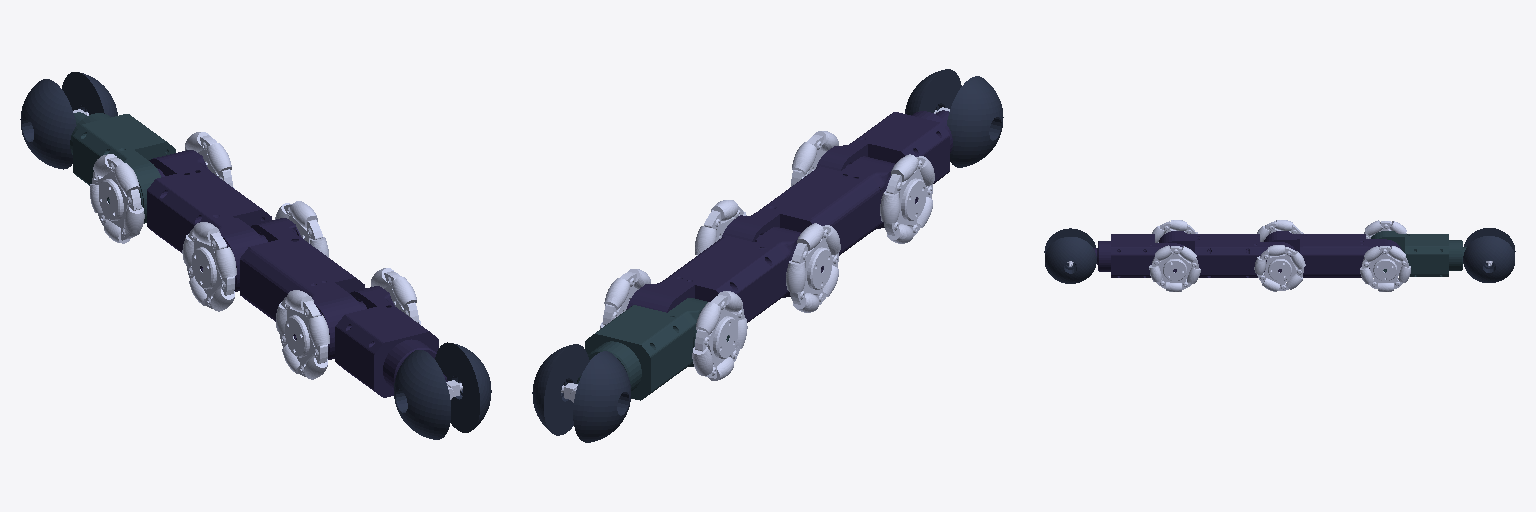
robot.urdf — pir-b-001:
<?xml version="1.0" ?>
<!-- =================================================================================== -->
<!-- |    This document was autogenerated by xacro from PIR-B-ASSY-001-integeration.xacro | -->
<!-- |    EDITING THIS FILE BY HAND IS NOT RECOMMENDED                                 | -->
<!-- =================================================================================== -->
<robot name="pir-b-001">
  <link name="base_footprint"/>
  <link name="base_link">
    <inertial>
      <origin rpy="0 0 0" xyz="0.00464580299161508 -0.00157654781508274 1.29496402264534E-08"/>
      <mass value="0.170619611327794"/>
      <inertia ixx="8.87834221142331E-05" ixy="7.79394477944035E-08" ixz="9.12723410794375E-12" iyy="3.69411152186283E-05" iyz="-1.02575311402571E-11" izz="7.54787982319766E-05"/>
    </inertial>
    <visual>
      <origin rpy="0 0 0" xyz="0 0 0"/>
      <geometry>
        <mesh filename="package://pir-b-001/meshes/base_link.STL"/>
      </geometry>
      <material name="">
        <color rgba="0.2156862745098 0.19607843137255 0.33333333333333 1"/>
      </material>
    </visual>
    <collision>
      <origin rpy="0 0 0" xyz="0 0 0"/>
      <geometry>
        <mesh filename="package://pir-b-001/meshes/base_link.STL"/>
      </geometry>
    </collision>
  </link>
  <joint name="base_joint" type="fixed">
    <parent link="base_footprint"/>
    <child link="base_link"/>
  </joint>
  <link name="right_Link">
    <inertial>
      <origin rpy="0 0 0" xyz="-0.00184881111328208 -4.23784689099552E-07 0.0428862642303592"/>
      <mass value="0.0937706135990428"/>
      <inertia ixx="3.3058401223831E-05" ixy="-8.41485245226076E-11" ixz="-1.68708890047153E-07" iyy="2.54497427915133E-05" iyz="1.89306498798761E-10" izz="1.98487722559132E-05"/>
    </inertial>
    <visual>
      <origin rpy="0 0 0" xyz="0 0 0"/>
      <geometry>
        <mesh filename="package://pir-b-001/meshes/right_Link.STL"/>
      </geometry>
      <material name="brown">
        <color rgba="0.2156862745098 0.29607843137255 0.33333333333333 1"/>
      </material>
    </visual>
    <collision>
      <origin rpy="0 0 0" xyz="0 0 0"/>
      <geometry>
        <mesh filename="package://pir-b-001/meshes/right_Link.STL"/>
      </geometry>
    </collision>
  </link>
  <joint name="right_Linkj" type="continuous">
    <origin rpy="1.57079632679489 0 -3.14159265358979" xyz="-0.0014878 0.0595 0"/>
    <parent link="base_link"/>
    <child link="right_Link"/>
    <axis xyz="1 0 0"/>
    <limit effort="30" lower="0" upper="0" velocity="30"/>
  </joint>
  <link name="right_wheel1">
    <inertial>
      <origin rpy="0 0 0" xyz="-0.000152394722576409 -1.38777878078145E-17 0.00826667615289123"/>
      <mass value="0.00397466978072404"/>
      <inertia ixx="3.60918483675977E-07" ixy="1.65569978578215E-24" ixz="-5.54295173329271E-24" iyy="5.29262126321023E-07" iyz="-2.39172772821026E-13" izz="2.18039563551073E-07"/>
    </inertial>
    <visual>
      <origin rpy="0 0 0" xyz="0 0 0"/>
      <geometry>
        <mesh filename="package://pir-b-001/meshes/right_wheel1.STL"/>
      </geometry>
      <material name="">
        <color rgba="0.792156862745098 0.819607843137255 0.933333333333333 1"/>
      </material>
    </visual>
    <collision>
      <origin rpy="0 0 0" xyz="0 0 0"/>
      <geometry>
        <mesh filename="package://pir-b-001/meshes/right_wheel1.STL"/>
      </geometry>
    </collision>
  </link>
  <joint name="right_wheel1j" type="continuous">
    <origin rpy="3.14159265358979 0 3.14159265358979" xyz="-0.00749999999999901 0 0.120529810536102"/>
    <parent link="right_Link"/>
    <child link="right_wheel1"/>
    <axis xyz="0 0 1"/>
    <!-- <limit
      lower="0"
      upper="0"
      effort="0"
      velocity="0" /> -->
  </joint>
  <link name="right_wheel">
    <inertial>
      <origin rpy="0 0 0" xyz="0 -9.80989718277203E-10 0.00057019000905606"/>
      <mass value="0.06316999034176"/>
      <inertia ixx="2.34601118841819E-05" ixy="6.34235569189726E-13" ixz="1.10459714329623E-15" iyy="1.31801476605567E-05" iyz="1.21434487375606E-10" izz="1.31800680409047E-05"/>
    </inertial>
    <visual>
      <origin rpy="0 0 0" xyz="0 9.80989718277203E-10 0.00057019000905606"/>
      <geometry>
        <mesh filename="package://pir-b-001/meshes/right_wheel.STL"/>
      </geometry>
      <material name="">
        <color rgba="0.2156862745098 0.25 0.333333333333333 1"/>
      </material>
    </visual>
    <collision>
      <origin rpy="0 0 0" xyz="0 9.80989718277203E-10 0.00057019000905606"/>
      <geometry>
        <mesh filename="package://pir-b-001/meshes/right_wheel.STL"/>
      </geometry>
    </collision>
  </link>
  <joint name="right_wheelj" type="continuous">
    <origin rpy="0 0 0" xyz="0 0 0"/>
    <parent link="right_wheel1"/>
    <child link="right_wheel"/>
    <axis xyz="1 0 0"/>
    <limit effort="0" lower="0" upper="0" velocity="0"/>
  </joint>
  <link name="omni1">
    <inertial>
      <origin rpy="0 0 0" xyz="-0.00563003320638717 -2.34501937295545E-08 3.54608361008424E-08"/>
      <mass value="0.0201689077901827"/>
      <inertia ixx="2.89466199636895E-06" ixy="-9.5524341130118E-18" ixz="7.27101391902106E-16" iyy="1.56064663818156E-06" iyz="-2.24081755790126E-16" izz="1.5606466410806E-06"/>
    </inertial>
    <visual>
      <origin rpy="0 0 0" xyz="0 0 0"/>
      <geometry>
        <mesh filename="package://pir-b-001/meshes/omni1.STL"/>
      </geometry>
      <material name="">
        <color rgba="0.792156862745098 0.819607843137255 0.933333333333333 1"/>
      </material>
    </visual>
    <collision>
      <origin rpy="0 0 0" xyz="0 0 0"/>
      <geometry>
        <mesh filename="package://pir-b-001/meshes/omni1.STL"/>
      </geometry>
    </collision>
  </link>
  <joint name="omni1j" type="continuous">
    <origin rpy="3.14159265358979 0 3.14159265358979" xyz="-0.0489939 0 0"/>
    <parent link="right_Link"/>
    <child link="omni1"/>
    <axis xyz="1 0 0"/>
    <limit effort="0" velocity="100"/>
  </joint>
  <link name="omni11">
    <inertial>
      <origin rpy="0 0 0" xyz="0.00594999947873641 5.39957731304774E-11 -1.80231940483111E-11"/>
      <mass value="0.0201140567593902"/>
      <inertia ixx="2.89396036741548E-06" ixy="8.33888837112752E-17" ixz="7.38017089766643E-16" iyy="1.56026500386643E-06" iyz="7.65565755138745E-16" izz="1.56026500695539E-06"/>
    </inertial>
    <visual>
      <origin rpy="0 0 0" xyz="0 0 0"/>
      <geometry>
        <mesh filename="package://pir-b-001/meshes/omni11.STL"/>
      </geometry>
      <material name="">
        <color rgba="0.792156862745098 0.819607843137255 0.933333333333333 1"/>
      </material>
    </visual>
    <collision>
      <origin rpy="0 0 0" xyz="0 0 0"/>
      <geometry>
        <mesh filename="package://pir-b-001/meshes/omni11.STL"/>
      </geometry>
    </collision>
  </link>
  <joint name="omni11j" type="continuous">
    <origin rpy="3.14159265358979 0 3.14159265358979" xyz="0.032500000000001 0 0"/>
    <parent link="right_Link"/>
    <child link="omni11"/>
    <axis xyz="1 0 0"/>
    <limit effort="0" velocity="100"/>
  </joint>
  <link name="left_Link">
    <inertial>
      <origin rpy="0 0 0" xyz="-0.00158846965158471 1.46053958545445E-08 0.0622691284414876"/>
      <mass value="0.167006805501782"/>
      <inertia ixx="8.76796763617996E-05" ixy="-1.08530403468932E-11" ixz="6.66846868785724E-08" iyy="7.49199848156552E-05" iyz="-1.21830500956036E-11" izz="3.62401163602652E-05"/>
    </inertial>
    <visual>
      <origin rpy="0 0 0" xyz="0 0 0"/>
      <geometry>
        <mesh filename="package://pir-b-001/meshes/left_Link.STL"/>
      </geometry>
      <material name="">
        <color rgba="0.2156862745098 0.19607843137255 0.33333333333333 1"/>
      </material>
    </visual>
    <collision>
      <origin rpy="0 0 0" xyz="0 0 0"/>
      <geometry>
        <mesh filename="package://pir-b-001/meshes/left_Link.STL"/>
      </geometry>
    </collision>
  </link>
  <joint name="left_Linkj" type="continuous">
    <origin rpy="1.5707963267949 0 0" xyz="0.0109878 -0.0625 0"/>
    <parent link="base_link"/>
    <child link="left_Link"/>
    <axis xyz="1 0 0"/>
    <limit effort="30" lower="0" upper="0" velocity="30"/>
  </joint>
  <link name="link3">
    <inertial>
      <origin rpy="0 0 0" xyz="0.00184881111328213 4.2378468910996E-07 0.0428862642303593"/>
      <mass value="0.0937706135990428"/>
      <inertia ixx="3.3058401223831E-05" ixy="-8.41485245171142E-11" ixz="1.68708890047147E-07" iyy="2.54497427915133E-05" iyz="-1.89306498798599E-10" izz="1.98487722559132E-05"/>
    </inertial>
    <visual>
      <origin rpy="0 0 0" xyz="0 0 0"/>
      <geometry>
        <mesh filename="package://pir-b-001/meshes/link3.STL"/>
      </geometry>
      <material name="">
        <color rgba="0.2156862745098 0.19607843137255 0.33333333333333 1"/>
      </material>
    </visual>
    <collision>
      <origin rpy="0 0 0" xyz="0 0 0"/>
      <geometry>
        <mesh filename="package://pir-b-001/meshes/link3.STL"/>
      </geometry>
    </collision>
  </link>
  <joint name="link3j" type="continuous">
    <origin rpy="0 0 3.14159265358979" xyz="0.0044878 0 0.122"/>
    <parent link="left_Link"/>
    <child link="link3"/>
    <axis xyz="-1 0 0"/>
    <limit effort="30" lower="0" upper="0" velocity="30"/>
  </joint>
  <link name="left_wheel1">
    <inertial>
      <origin rpy="0 0 0" xyz="-0.000152394722576388 -1.73472347597681E-17 -0.00883686561678922"/>
      <mass value="0.00397466978072403"/>
      <inertia ixx="3.60918483675978E-07" ixy="1.40065332748047E-24" ixz="5.46219029424907E-24" iyy="5.29262126321023E-07" iyz="-2.39172773129062E-13" izz="2.18039563551071E-07"/>
    </inertial>
    <visual>
      <origin rpy="0 0 0" xyz="0 0 0"/>
      <geometry>
        <mesh filename="package://pir-b-001/meshes/left_wheel1.STL"/>
      </geometry>
      <material name="">
        <color rgba="0.792156862745098 0.819607843137255 0.933333333333333 1"/>
      </material>
    </visual>
    <collision>
      <origin rpy="0 0 0" xyz="0 0 0"/>
      <geometry>
        <mesh filename="package://pir-b-001/meshes/left_wheel1.STL"/>
      </geometry>
    </collision>
  </link>
  <joint name="left_wheel1j" type="continuous">
    <origin rpy="0 0 3.14159265358979" xyz="0.0075000000000011 0 0.1211"/>
    <parent link="link3"/>
    <child link="left_wheel1"/>
    <axis xyz="0 0 -1"/>
    <!-- <limit
      lower="0"
      upper="0"
      effort="0"
      velocity="0" /> -->
  </joint>
  <link name="left_wheel">
    <inertial>
      <origin rpy="0 0 0" xyz="0 9.80989711338309E-10 5.4515819636336E-10"/>
      <mass value="0.0631699903417599"/>
      <inertia ixx="2.34601118841818E-05" ixy="-6.34235568100555E-13" ixz="-1.10459970680797E-15" iyy="1.31801476605566E-05" iyz="1.2143448738075E-10" izz="1.31800680409047E-05"/>
    </inertial>
    <visual>
      <origin rpy="0 0 0" xyz="0 0 0"/>
      <geometry>
        <mesh filename="package://pir-b-001/meshes/left_wheel.STL"/>
      </geometry>
      <material name="">
        <color rgba="0.2156862745098 0.25 0.333333333333333 1"/>
      </material>
    </visual>
    <collision>
      <origin rpy="0 0 0" xyz="0 0 0"/>
      <geometry>
        <mesh filename="package://pir-b-001/meshes/left_wheel.STL"/>
      </geometry>
    </collision>
  </link>
  <joint name="left_wheelj" type="continuous">
    <origin rpy="0 0 0" xyz="0 0 0"/>
    <parent link="left_wheel1"/>
    <child link="left_wheel"/>
    <axis xyz="-1 0 0"/>
    <limit effort="0" lower="0" upper="0" velocity="0"/>
  </joint>
  <link name="omni3">
    <inertial>
      <origin rpy="0 0 0" xyz="-0.00906169875747201 9.99316115968263E-11 3.76969983006958E-12"/>
      <mass value="0.0220741125393333"/>
      <inertia ixx="2.90247191554529E-06" ixy="5.7152064424899E-16" ixz="2.06680343176959E-16" iyy="2.42265115370176E-06" iyz="3.86902451094229E-15" izz="2.42265115187895E-06"/>
    </inertial>
    <visual>
      <origin rpy="0 0 0" xyz="0 0 0"/>
      <geometry>
        <mesh filename="package://pir-b-001/meshes/omni3.STL"/>
      </geometry>
      <material name="">
        <color rgba="0.792156862745098 0.819607843137255 0.933333333333333 1"/>
      </material>
    </visual>
    <collision>
      <origin rpy="0 0 0" xyz="0 0 0"/>
      <geometry>
        <mesh filename="package://pir-b-001/meshes/omni3.STL"/>
      </geometry>
    </collision>
  </link>
  <joint name="omni3j" type="continuous">
    <origin rpy="0 0 3.14159265358979" xyz="-0.0325 0 0"/>
    <parent link="link3"/>
    <child link="omni3"/>
    <axis xyz="1 0 0"/>
    <limit effort="0" velocity="0"/>
  </joint>
  <link name="omni33">
    <inertial>
      <origin rpy="0 0 0" xyz="0.00594999949319272 -1.73031554362435E-12 2.26730509367279E-11"/>
      <mass value="0.0201140568208348"/>
      <inertia ixx="2.89396036823254E-06" ixy="2.0290847722318E-17" ixz="-2.04665204356956E-16" iyy="1.56026500633012E-06" iyz="7.85122891413274E-16" izz="1.56026500750324E-06"/>
    </inertial>
    <visual>
      <origin rpy="0 0 0" xyz="0 0 0"/>
      <geometry>
        <mesh filename="package://pir-b-001/meshes/omni33.STL"/>
      </geometry>
      <material name="">
        <color rgba="0.792156862745098 0.819607843137255 0.933333333333333 1"/>
      </material>
    </visual>
    <collision>
      <origin rpy="0 0 0" xyz="0 0 0"/>
      <geometry>
        <mesh filename="package://pir-b-001/meshes/omni33.STL"/>
      </geometry>
    </collision>
  </link>
  <joint name="omni33j" type="continuous">
    <origin rpy="0 0 3.14159265358979" xyz="0.049487800000001 0 0"/>
    <parent link="link3"/>
    <child link="omni33"/>
    <axis xyz="1 0 0"/>
    <limit effort="0" velocity="0"/>
  </joint>
  <link name="omni22">
    <inertial>
      <origin rpy="0 0 0" xyz="0.00594999951624568 -5.9256037576727E-12 3.98460431316749E-11"/>
      <mass value="0.0201140568473286"/>
      <inertia ixx="2.89396036649702E-06" ixy="5.90539573515621E-16" ixz="-5.22899163592507E-16" iyy="1.56026500335274E-06" iyz="3.29436237722969E-15" izz="1.56026500968033E-06"/>
    </inertial>
    <visual>
      <origin rpy="0 0 0" xyz="0 0 0"/>
      <geometry>
        <mesh filename="package://pir-b-001/meshes/omni22.STL"/>
      </geometry>
      <material name="">
        <color rgba="0.792156862745098 0.819607843137255 0.933333333333333 1"/>
      </material>
    </visual>
    <collision>
      <origin rpy="0 0 0" xyz="0 0 0"/>
      <geometry>
        <mesh filename="package://pir-b-001/meshes/omni22.STL"/>
      </geometry>
    </collision>
  </link>
  <joint name="omni22j" type="continuous">
    <origin rpy="0 0 0" xyz="-0.0449878 0 0"/>
    <parent link="left_Link"/>
    <child link="omni22"/>
    <axis xyz="1 0 0"/>
    <limit effort="0" velocity="0"/>
  </joint>
  <link name="omni2">
    <inertial>
      <origin rpy="0 0 0" xyz="-0.00906169873200706 -2.22358936818878E-12 -1.69876057665164E-11"/>
      <mass value="0.0220741125868307"/>
      <inertia ixx="2.90247192013343E-06" ixy="8.096473822911E-17" ixz="-1.49131826695456E-16" iyy="2.42265115585034E-06" iyz="-2.80379249301921E-16" izz="2.42265115603564E-06"/>
    </inertial>
    <visual>
      <origin rpy="0 0 0" xyz="0 0 0"/>
      <geometry>
        <mesh filename="package://pir-b-001/meshes/omni2.STL"/>
      </geometry>
      <material name="">
        <color rgba="0.792156862745098 0.819607843137255 0.933333333333333 1"/>
      </material>
    </visual>
    <collision>
      <origin rpy="0 0 0" xyz="0 0 0"/>
      <geometry>
        <mesh filename="package://pir-b-001/meshes/omni2.STL"/>
      </geometry>
    </collision>
  </link>
  <joint name="omni2j" type="continuous">
    <origin rpy="0 0 0" xyz="0.037 0 0"/>
    <parent link="left_Link"/>
    <child link="omni2"/>
    <axis xyz="1 0 0"/>
    <limit effort="0" velocity="0"/>
  </joint>
  <!-- joints transmissions -->
  <transmission name="right_Linkj_trans">
    <type>transmission_interface/SimpleTransmission</type>
    <joint name="right_Linkj">
      <hardwareInterface>hardware_interface/PositionJointInterface</hardwareInterface>
    </joint>
    <actuator name="right_Linkm">
      <mechanicalReduction>1</mechanicalReduction>
    </actuator>
  </transmission>
  <transmission name="left_Linkj_trans">
    <type>transmission_interface/SimpleTransmission</type>
    <joint name="left_Linkj">
      <hardwareInterface>hardware_interface/PositionJointInterface</hardwareInterface>
    </joint>
    <actuator name="left_Linkm">
      <mechanicalReduction>1</mechanicalReduction>
    </actuator>
  </transmission>
  <transmission name="link3j_trans">
    <type>transmission_interface/SimpleTransmission</type>
    <joint name="link3j">
      <hardwareInterface>hardware_interface/PositionJointInterface</hardwareInterface>
    </joint>
    <actuator name="link3m">
      <mechanicalReduction>1</mechanicalReduction>
    </actuator>
  </transmission>
  <transmission name="omni1j_trans">
    <type>transmission_interface/SimpleTransmission</type>
    <joint name="omni1j">
      <hardwareInterface>hardware_interface/EffortJointInterface</hardwareInterface>
    </joint>
    <actuator name="omni1m">
      <mechanicalReduction>1.0</mechanicalReduction>
    </actuator>
  </transmission>
  <!-- <transmission name="omni11j_trans">
  <type>transmission_interface/SimpleTransmission</type>
  <joint name="omni11j">
    <hardwareInterface>hardware_interface/VelocityJointInterface</hardwareInterface>
  </joint>
  <actuator name="omni11m">
    <mechanicalReduction>1.0</mechanicalReduction>
  </actuator>
</transmission> -->
  <gazebo reference="omni1">
    <mu1 value="200.0"/>
    <mu2 value="100.0"/>
    <kp value="100.0"/>
    <kd value="1.0"/>
    <material>Gazebo/Black</material>
  </gazebo>
  <!-- <transmission name="right_wheel1j_trans">
  <type>transmission_interface/SimpleTransmission</type>
  <joint name="right_wheel1j">
    <hardwareInterface>hardware_interface/VelocityJointInterface</hardwareInterface>
  </joint>
  <actuator name="right_wheel1m">
    <mechanicalReduction>1</mechanicalReduction>
  </actuator>
</transmission> -->
  <gazebo>
    <plugin filename="libgazebo_ros_control.so" name="gazebo_ros_control">
      <robotNamespace>/pir_b_001</robotNamespace>
      <controlPeriod>0.001</controlPeriod>
      <robotSimType>gazebo_ros_control/DefaultRobotHWSim</robotSimType>
    </plugin>
  </gazebo>
  <!-- Camera Sensor -->
  <!-- <gazebo reference="right_wheel1">
   <sensor type="camera" name="camera">
     <always_on>true</always_on>
     <update_rate>30.0</update_rate>
     <camera>
       <horizontal_fov>1.047</horizontal_fov>
       <image>
         <width>640</width>
         <height>480</height>
         <format>R8G8B8</format>
       </image>
       <clip>
         <near>0.1</near>
         <far>100.0</far>
       </clip>
     </camera>
     <plugin name="camera_controller" filename="libgazebo_ros_camera.so">
       <alwaysOn>true</alwaysOn>
       <updateRate>0.0</updateRate>
       <cameraName>camera</cameraName>
       <frameName>right_wheel1</frameName>
       <imageTopicName>camera/image_raw</imageTopicName>
       <cameraInfoTopicName>camera/camera_info</cameraInfoTopicName>
       <hackBaseline>0.07</hackBaseline>
       <distortionK1>0.0</distortionK1>
       <distortionK2>0.0</distortionK2>
       <distortionK3>0.0</distortionK3>
       <distortionT1>0.0</distortionT1>
       <distortionT2>0.0</distortionT2>
     </plugin>
   </sensor>
 </gazebo> -->
</robot>

--- What the picture shows (computed from the rendered views, not written in the file) ---
3 views of the same robot in one strip: view 1: azimuth 30°, elevation 25°; view 2: azimuth 150°, elevation 25°; view 3: azimuth 270°, elevation 25° (orthographic).
Robot: pir-b-001 — 15 links, 14 joints (13 continuous, 1 fixed); root link base_footprint; default pose: all joints at 0.
Visible links, largest first — view 1: left_Link, base_link, left_wheel, link3, right_wheel, right_Link, omni11, omni22, omni33, omni2, omni3, omni1; view 2: base_link, left_Link, right_wheel, right_Link, left_wheel, link3, omni33, omni22, omni11, omni1, omni2, omni3; view 3: base_link, left_Link, right_Link, link3, left_wheel, right_wheel, omni3, omni2, omni1.
Boxes of the visible links, box(x1,y1,x2,y2) form: left_Link: box(200, 218, 366, 359); base_link: box(147, 150, 271, 291); left_wheel: box(394, 342, 491, 439); link3: box(293, 286, 447, 397); right_wheel: box(20, 72, 117, 169); right_Link: box(70, 112, 175, 223); omni11: box(90, 154, 144, 243); omni22: box(182, 222, 236, 311); omni33: box(276, 290, 329, 379); omni2: box(275, 201, 328, 257); omni3: box(371, 268, 420, 324); omni1: box(185, 132, 234, 188); base_link: box(626, 227, 800, 322); left_Link: box(722, 156, 894, 272); right_wheel: box(532, 344, 630, 442); right_Link: box(576, 298, 729, 400); left_wheel: box(905, 69, 1003, 167); link3: box(816, 110, 952, 203); omni33: box(880, 154, 934, 243); omni22: box(786, 223, 840, 312); omni11: box(692, 291, 747, 380); omni1: box(600, 269, 650, 328); omni2: box(695, 200, 746, 255); omni3: box(791, 131, 838, 186); base_link: box(1264, 231, 1401, 277); left_Link: box(1159, 231, 1295, 277); right_Link: box(1371, 231, 1466, 276); link3: box(1093, 234, 1183, 277); left_wheel: box(1044, 228, 1096, 283); right_wheel: box(1463, 228, 1515, 282); omni3: box(1149, 245, 1200, 291); omni2: box(1254, 245, 1305, 291); omni1: box(1360, 246, 1410, 291).
Bounding box of the posed robot: 0.082 × 0.5464 × 0.0608 m (x, y, z).
Meshes: 14 distinct files referenced, 14 mesh visuals loaded (14 binary STL).
